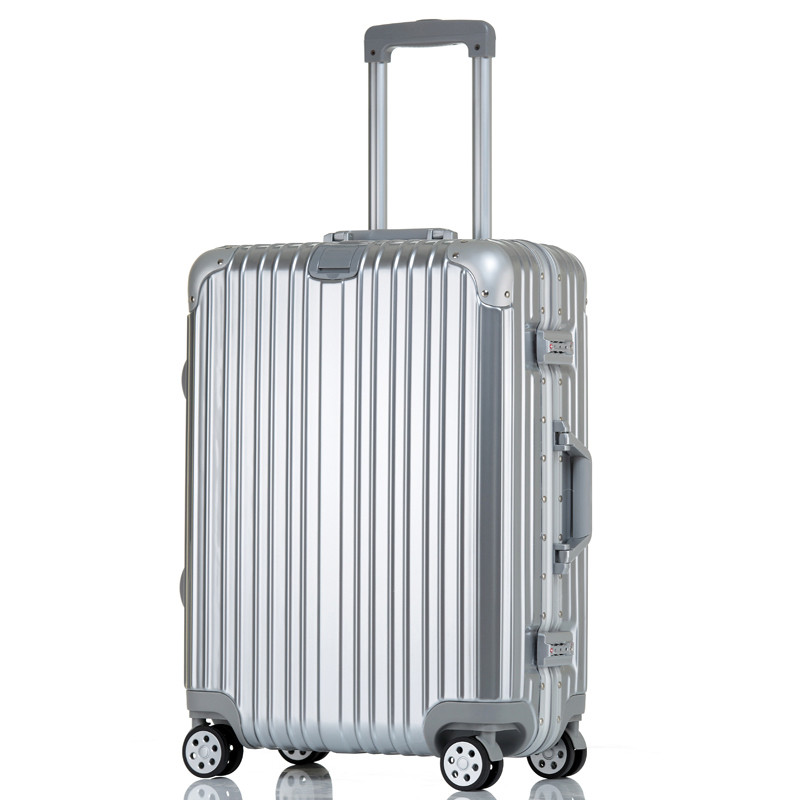luggage: (178, 18, 617, 791)
